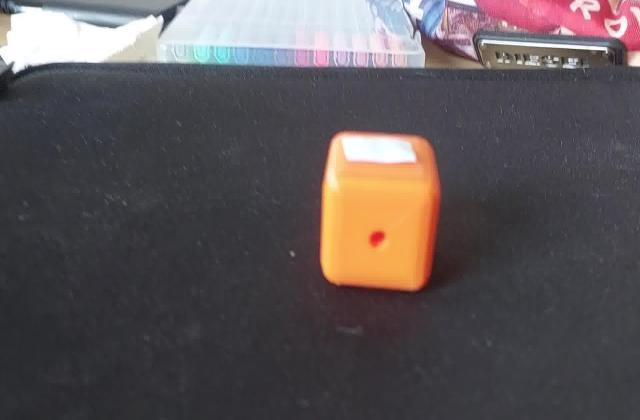cube: (316, 126, 442, 296)
white: (340, 135, 422, 168)
